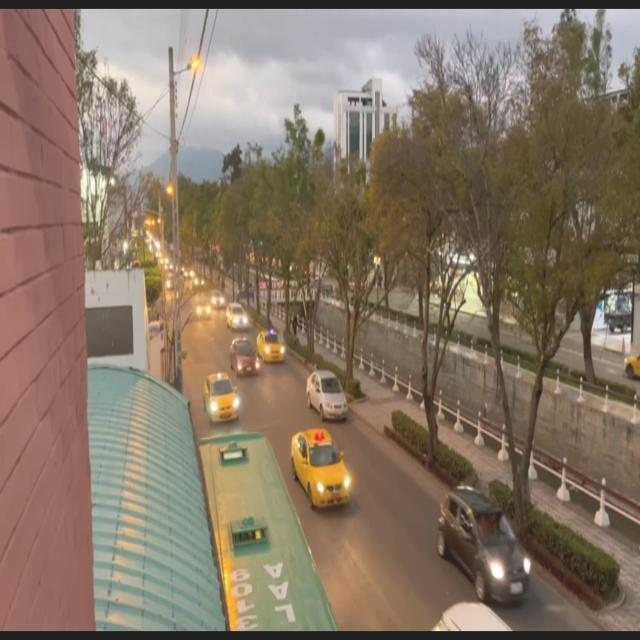BUS: (199, 432, 340, 634)
SED: (436, 485, 536, 612), (292, 427, 356, 508), (310, 372, 350, 418), (204, 376, 238, 423), (231, 336, 260, 375), (260, 330, 286, 363), (228, 304, 249, 331)
